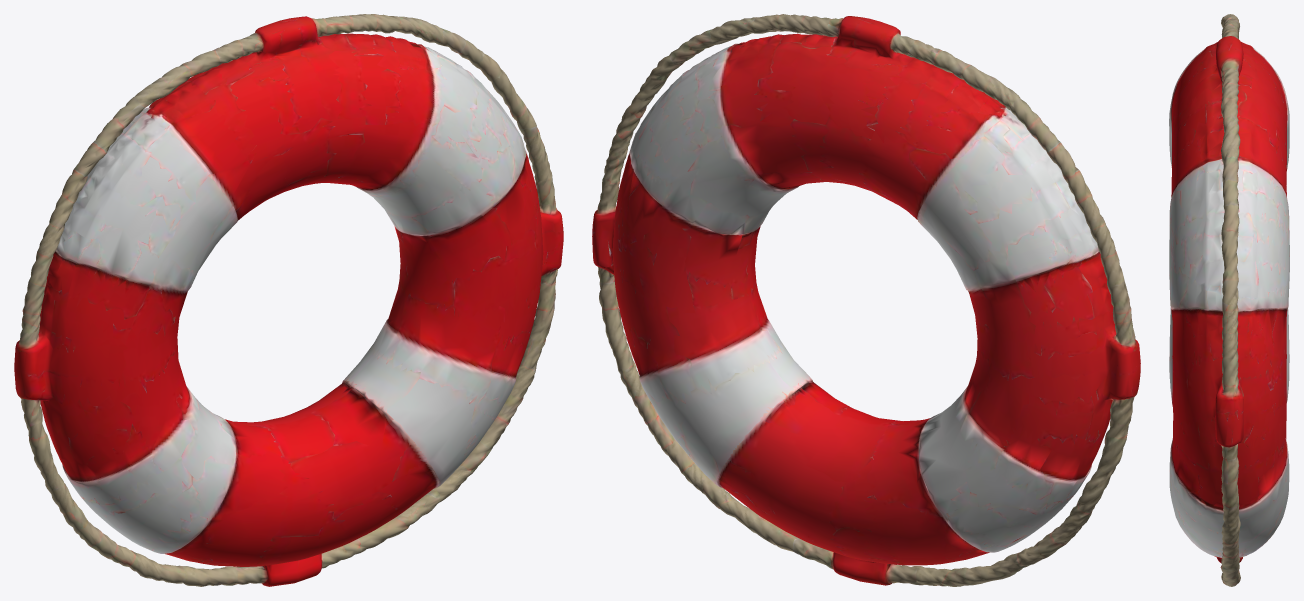
The model's file is salvavidas.glb.
3 views of the same model, side by side, from view 1: azimuth 30°, elevation 25°; view 2: azimuth 150°, elevation 25°; view 3: azimuth 270°, elevation 25° (orthographic). The views are drawn at different scales.
Size of the model in its own units: 1.9 by 1.88 by 0.4033.
1 material, 1 textured.
